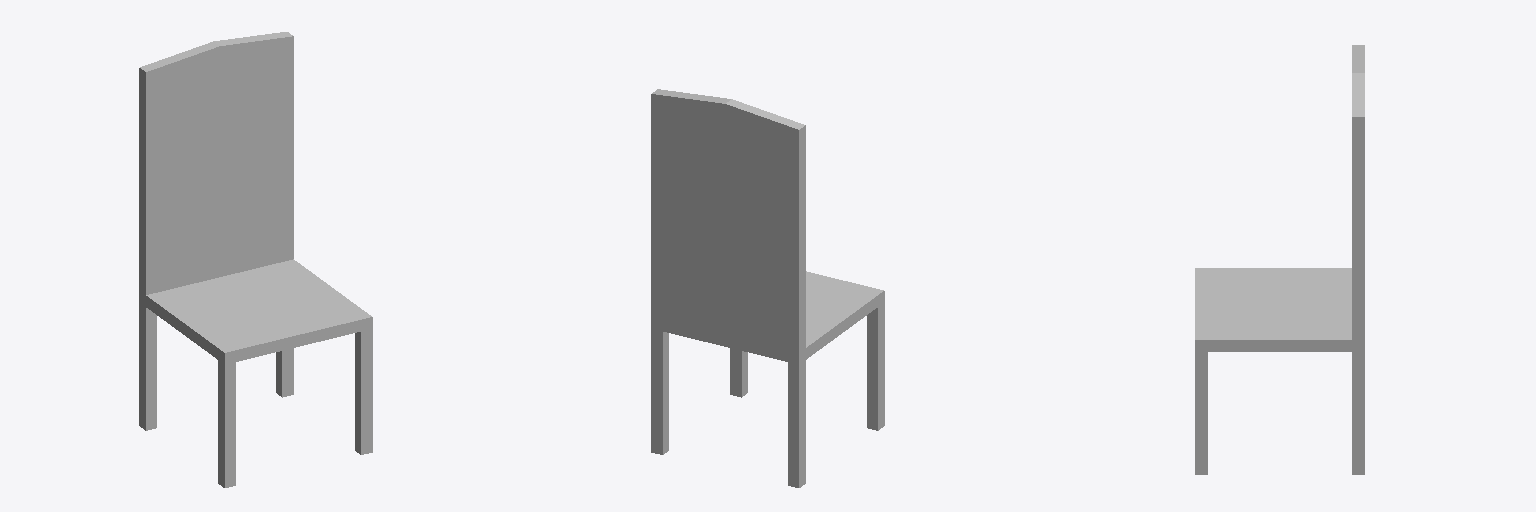
The model's file is Chair.obj.
3 renders of one model, left to right at view 1: azimuth 30°, elevation 25°; view 2: azimuth 150°, elevation 25°; view 3: azimuth 270°, elevation 25°, orthographic.
Visible parts, largest first — view 1: ChairBack; view 2: ChairBack; view 3: ChairBack.
Part boxes in pixels (bbox=[...]): ChairBack: bbox=[139, 32, 372, 487]; ChairBack: bbox=[651, 89, 884, 487]; ChairBack: bbox=[1195, 45, 1364, 474].
Bounding box in the file's own units: 0.65 × 1.54 × 0.65.